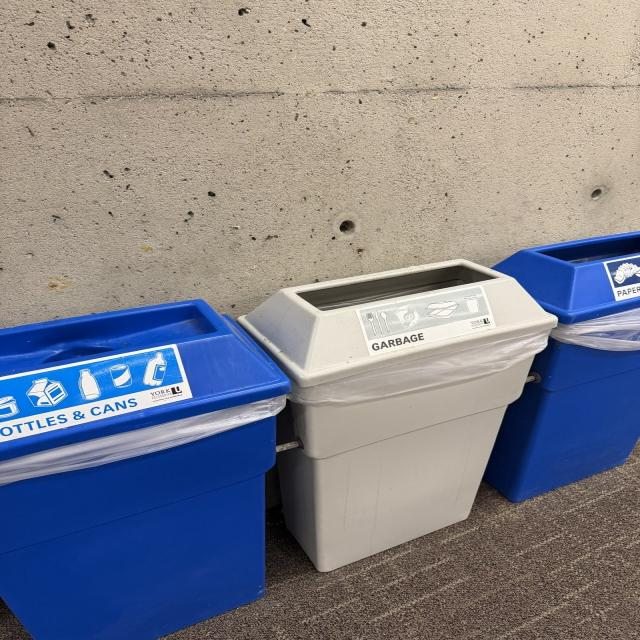Dustbin: (0, 230, 640, 638)
